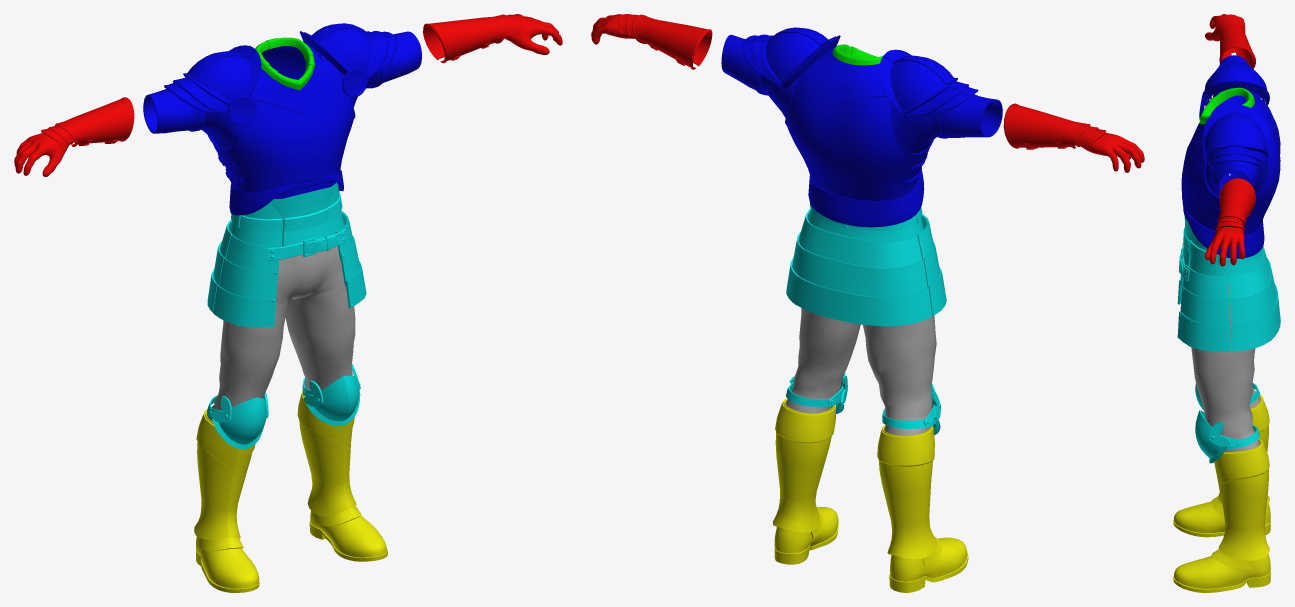
File: Armor7.fbx
3 views of the same model, side by side, from view 1: azimuth 30°, elevation 25°; view 2: azimuth 150°, elevation 25°; view 3: azimuth 270°, elevation 25° (orthographic). The views are drawn at different scales.
Parts seen in each view (by area): view 1: Trousers, CuriassFront, ElvenBootR, FauldsFront, ElvenBootL, PauldronR, LeatherVest, ElvenGauntletR, ElvenGauntletL, PauldronL, ArmpitR, PoleynR (+6 smaller); view 2: CuriassBack, FauldsBack, Trousers, ElvenBootR, ElvenBootL, PauldronR, ElvenGauntletR, ArmpitR, PauldronL, ElvenGauntletL, CuriassWings, ArmpitL (+4 smaller); view 3: ElvenBootL, Trousers, FauldsFront, FauldsBack, PauldronL, ElvenGauntletL, CuriassFront, ElvenBootR, CuriassBack, LeatherVest, PauldronR, ElvenGauntletR (+6 smaller).
Boxes of the visible parts, x1,y1,x2,y2 form: Trousers: (207,246,355,421); CuriassFront: (218,46,355,198); ElvenBootR: (194,409,259,592); FauldsFront: (213,211,366,327); ElvenBootL: (297,391,387,561); PauldronR: (164,45,261,124); LeatherVest: (230,182,344,246); ElvenGauntletR: (14,97,134,176); ElvenGauntletL: (423,14,562,63); PauldronL: (299,23,397,97); ArmpitR: (143,89,244,148); PoleynR: (207,392,268,449); CuriassBack: (785,50,926,200); FauldsBack: (786,209,932,326); Trousers: (785,308,936,435); ElvenBootR: (877,425,968,592); ElvenBootL: (773,398,838,564); PauldronR: (879,49,978,117); ElvenGauntletR: (1003,103,1144,172); ArmpitR: (892,94,1002,153); PauldronL: (742,27,840,88); ElvenGauntletL: (591,14,712,69); CuriassWings: (808,169,924,227); ArmpitL: (721,34,795,117); ElvenBootL: (1173,439,1270,592); Trousers: (1191,284,1260,451); FauldsFront: (1177,243,1230,351); FauldsBack: (1228,246,1280,351); PauldronL: (1199,104,1269,168); ElvenGauntletL: (1205,178,1255,266); CuriassFront: (1181,90,1229,231); ElvenBootR: (1173,394,1270,537); CuriassBack: (1229,91,1280,234); LeatherVest: (1183,216,1262,283); PauldronR: (1199,61,1269,117); ElvenGauntletR: (1205,14,1255,68).
Bounding box in the file's own units: 184 × 167 × 35.02.
